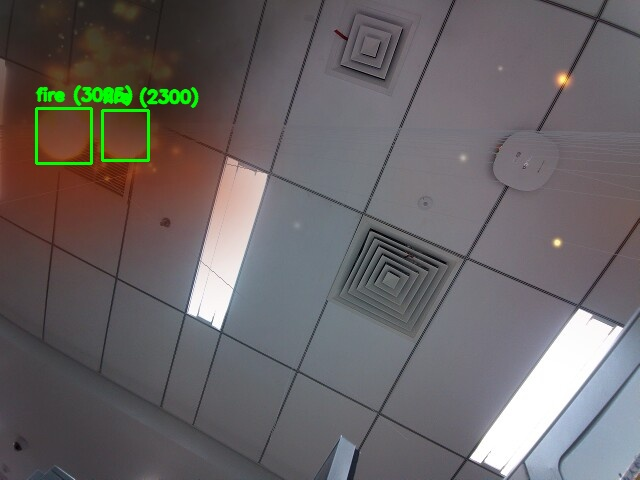fire: (36, 108, 91, 163), (102, 110, 148, 160)
